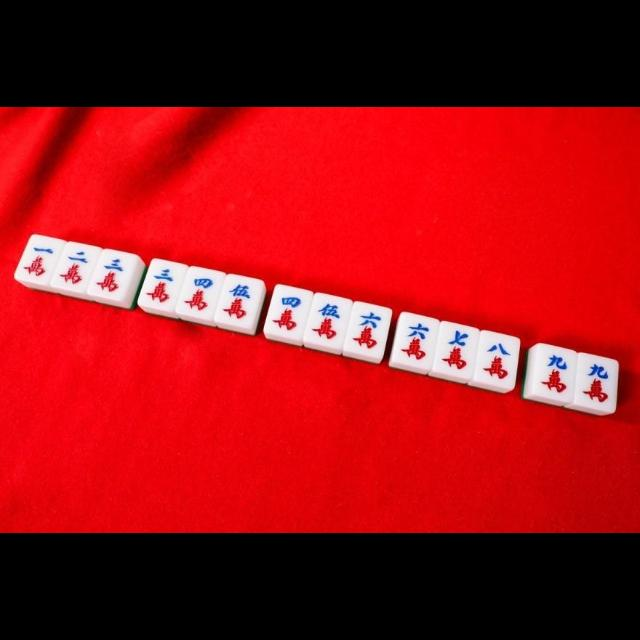c1: (18, 234, 58, 282)
c2: (55, 245, 95, 288)
c3: (92, 251, 136, 299), (143, 260, 180, 308)
c4: (268, 285, 308, 339), (178, 268, 220, 316)
c5: (218, 276, 260, 326), (307, 296, 349, 346)
c6: (396, 318, 436, 370), (348, 304, 387, 356)
c7: (436, 324, 478, 378)
c8: (476, 332, 518, 388)
c9: (576, 355, 614, 411), (535, 348, 573, 402)
